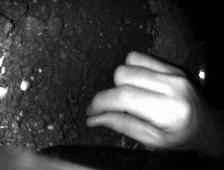corn: (19, 77, 32, 94)
